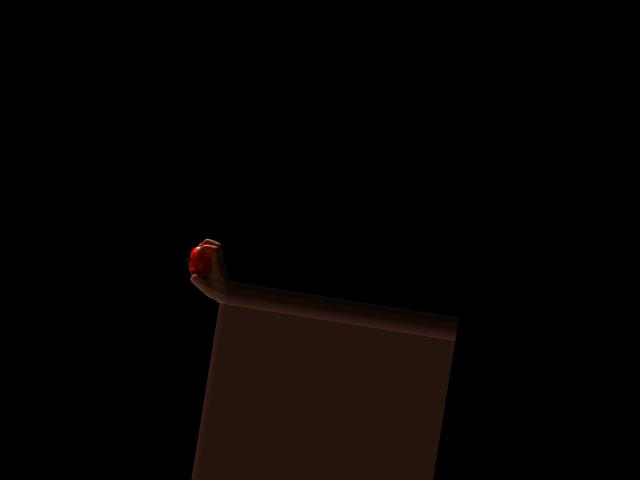tomato: (183, 245, 213, 277)
